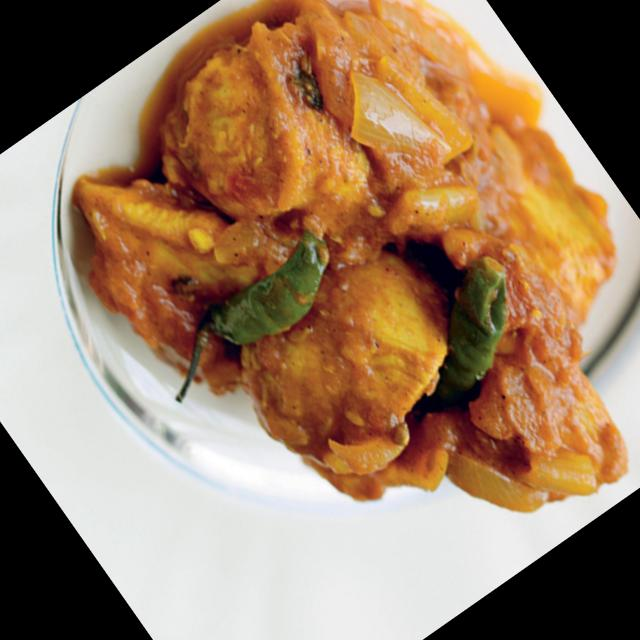chicken: (38, 0, 640, 613)
